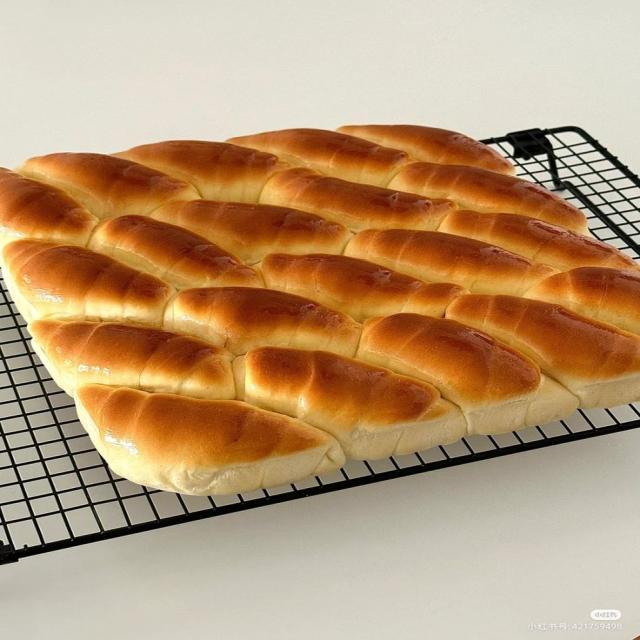bread: (0, 126, 639, 494), (77, 385, 345, 495), (358, 314, 577, 433), (234, 348, 466, 459), (447, 295, 639, 407), (28, 319, 235, 399), (3, 239, 174, 325), (387, 163, 586, 233), (260, 254, 466, 321), (346, 229, 556, 294), (165, 287, 360, 356), (151, 200, 351, 264), (89, 216, 263, 289), (260, 168, 456, 230), (17, 153, 199, 218), (439, 211, 636, 271), (228, 128, 412, 186), (115, 141, 286, 202), (338, 125, 514, 174), (526, 267, 639, 334), (0, 168, 97, 245)
